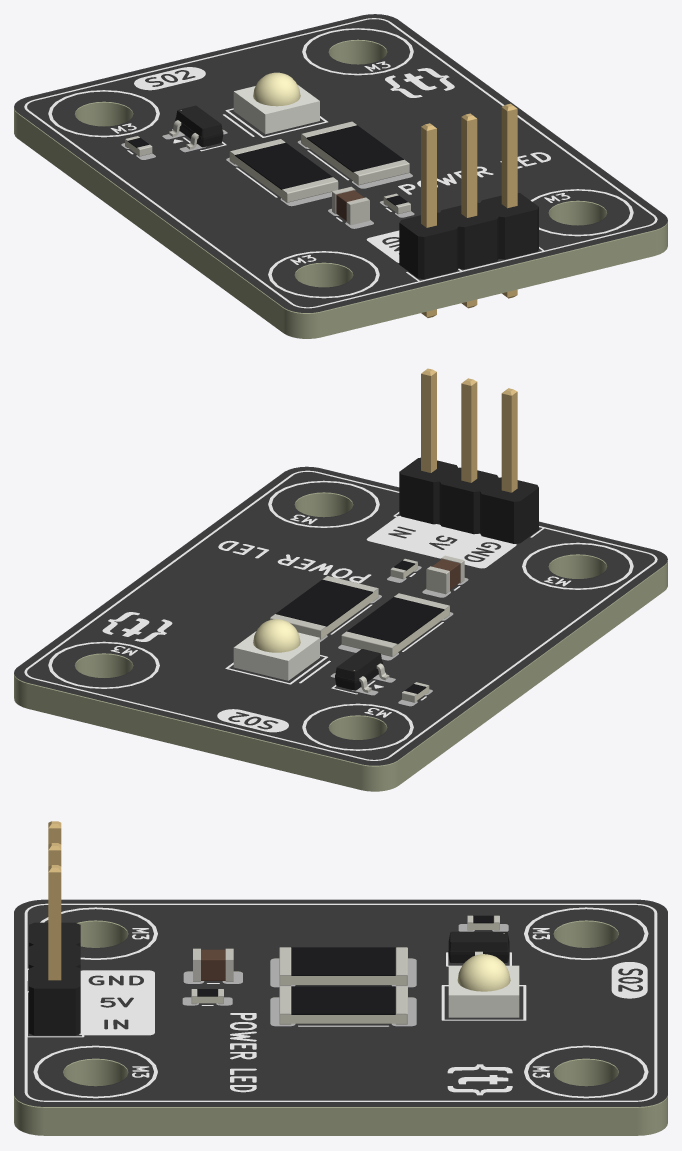
The picture shows the model from 3 angles, top to bottom: view 1: azimuth 30°, elevation 25°; view 2: azimuth 150°, elevation 25°; view 3: azimuth 270°, elevation 25°; orthographic projection. The views are drawn at different scales.
Parts seen in each view (by area): view 1: =>[0:1:1:11], =>[0:1:1:13], J1, =>[0:1:1:9], R4, R3, LED_XPE2_0, Q1, LED_XPE2_1, =>[0:1:1:8], C1; view 2: =>[0:1:1:11], =>[0:1:1:13], J1, =>[0:1:1:9], R4, R3, LED_XPE2_0, Q1, LED_XPE2_1, C1, =>[0:1:1:8]; view 3: =>[0:1:1:11], =>[0:1:1:13], =>[0:1:1:9], J1, R4, R3, LED_XPE2_0, =>[0:1:1:8], Q1, LED_XPE2_1, C1, R2 (+1 smaller).
Boxes of the visible parts, bbox=[...] form: =>[0:1:1:11]: bbox=[14, 14, 667, 312]; =>[0:1:1:13]: bbox=[14, 39, 667, 338]; J1: bbox=[399, 103, 538, 317]; =>[0:1:1:9]: bbox=[24, 18, 657, 308]; R4: bbox=[229, 139, 338, 202]; R3: bbox=[301, 121, 409, 185]; LED_XPE2_0: bbox=[233, 84, 319, 134]; Q1: bbox=[169, 105, 223, 149]; LED_XPE2_1: bbox=[253, 72, 300, 106]; =>[0:1:1:8]: bbox=[121, 130, 414, 228]; C1: bbox=[332, 186, 369, 225]; =>[0:1:1:11]: bbox=[14, 466, 667, 765]; =>[0:1:1:13]: bbox=[14, 492, 667, 791]; J1: bbox=[399, 368, 538, 543]; =>[0:1:1:9]: bbox=[24, 470, 657, 760]; R4: bbox=[341, 593, 449, 656]; R3: bbox=[270, 576, 378, 639]; LED_XPE2_0: bbox=[233, 631, 319, 680]; Q1: bbox=[335, 649, 389, 692]; LED_XPE2_1: bbox=[253, 619, 300, 652]; C1: bbox=[426, 555, 464, 594]; =>[0:1:1:8]: bbox=[320, 566, 468, 706]; =>[0:1:1:11]: bbox=[14, 899, 667, 1106]; =>[0:1:1:13]: bbox=[14, 920, 667, 1135]; =>[0:1:1:9]: bbox=[24, 903, 657, 1101]; J1: bbox=[29, 821, 80, 1035]; R4: bbox=[279, 947, 407, 985]; R3: bbox=[279, 986, 407, 1024]; LED_XPE2_0: bbox=[448, 965, 519, 1017]; =>[0:1:1:8]: bbox=[182, 924, 508, 1026]; Q1: bbox=[448, 931, 509, 962]; LED_XPE2_1: bbox=[457, 954, 510, 991]; C1: bbox=[193, 948, 233, 981]; R2: bbox=[467, 915, 499, 930].
Bounding box in the file's own units: 0.024 × 0.0115 × 0.032.
